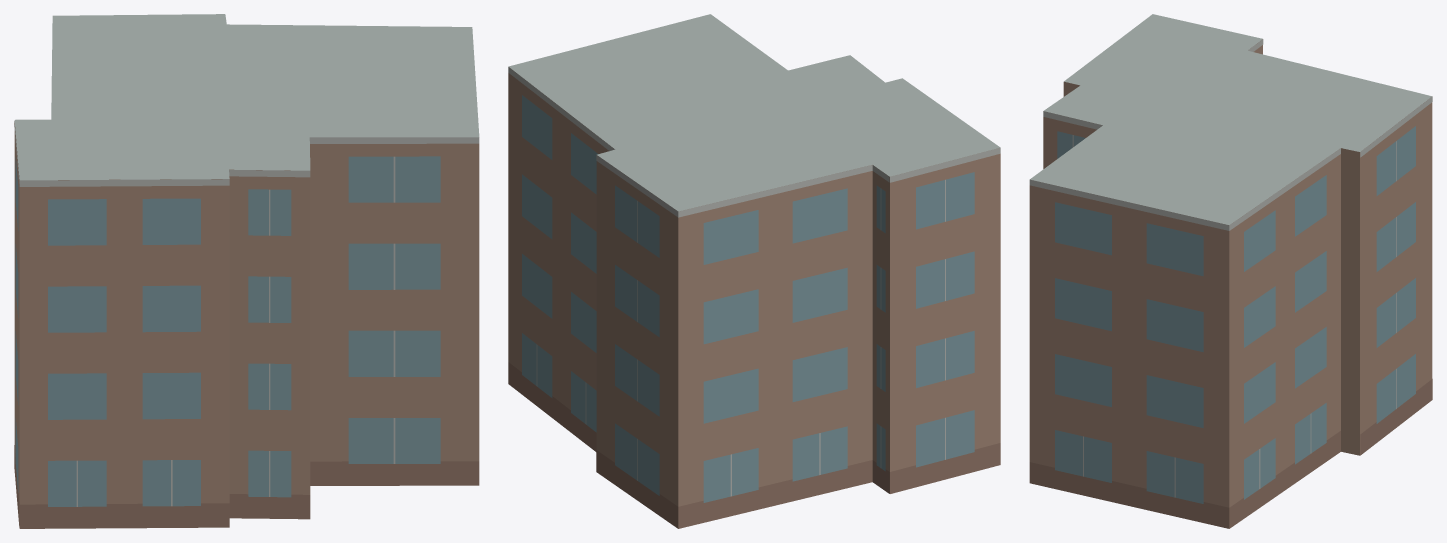
The model's file is survey-upis-32743865.glb.
The picture shows the model from 3 angles, left to right: view 1: azimuth 30°, elevation 25°; view 2: azimuth 150°, elevation 25°; view 3: azimuth 270°, elevation 25°; orthographic projection. The views are drawn at different scales.
Parts seen in each view (by area): view 1: survey-upis-32743865.tmp; view 2: survey-upis-32743865.tmp; view 3: survey-upis-32743865.tmp.
Boxes of the visible parts, left/top/right/bottom form: survey-upis-32743865.tmp: left=14, top=14, right=479, bottom=528; survey-upis-32743865.tmp: left=508, top=14, right=1000, bottom=528; survey-upis-32743865.tmp: left=1029, top=14, right=1432, bottom=528.
Bounding box in the file's own units: 19.1 × 12.8 × 15.4.
